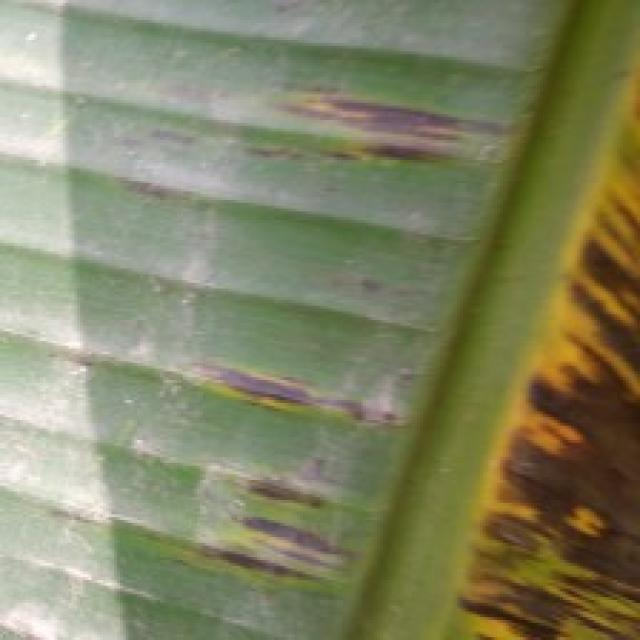Early_leaf_spot: (443, 2, 640, 640), (224, 57, 503, 181), (182, 449, 393, 600), (174, 335, 395, 433), (33, 323, 119, 388), (36, 475, 108, 542)
